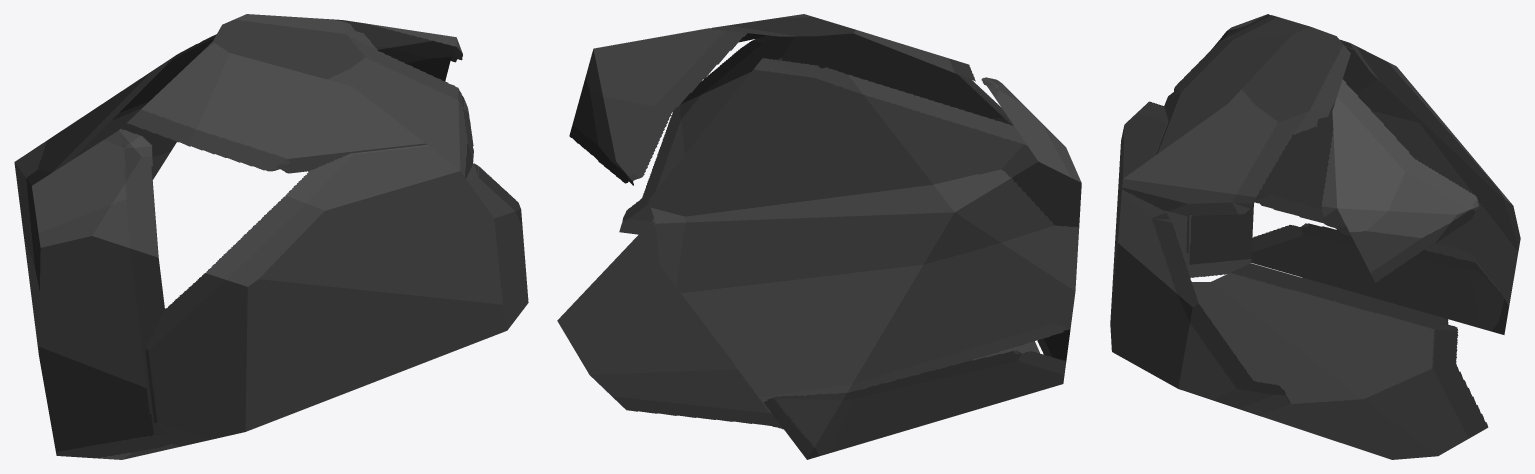
Rendered from kamen2.fbx.
3 renders of one model, left to right at view 1: azimuth 30°, elevation 25°; view 2: azimuth 150°, elevation 25°; view 3: azimuth 270°, elevation 25°, orthographic. The views are drawn at different scales.
Parts seen in each view (by area): view 1: Cube.003; view 2: Cube.003; view 3: Cube.003.
Part boxes in pixels (bbox=[...]): Cube.003: bbox=[14, 14, 528, 459]; Cube.003: bbox=[557, 14, 1081, 459]; Cube.003: bbox=[1110, 14, 1520, 459].
Bounding box in the file's own units: 67.66 × 49.45 × 54.57.
1 material, 1 textured.
